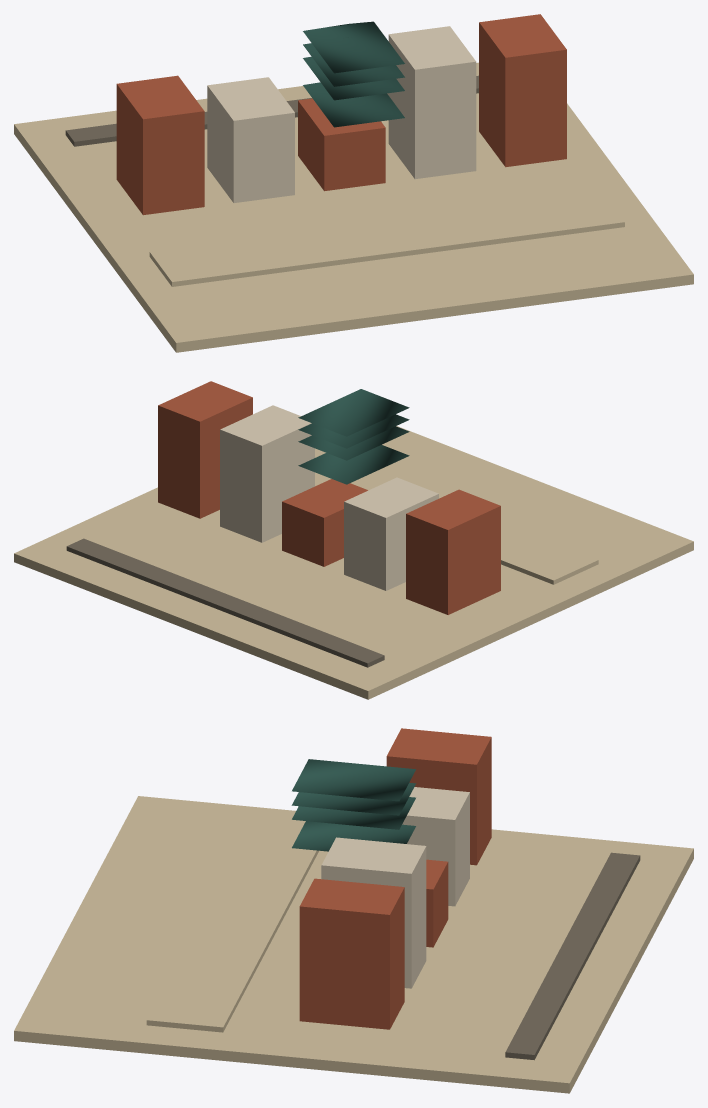
File: model-medium.glb
The picture shows the model from 3 angles, top to bottom: view 1: azimuth 30°, elevation 25°; view 2: azimuth 150°, elevation 25°; view 3: azimuth 270°, elevation 25°; orthographic projection. The views are drawn at different scales.
Parts seen in each view (by area): view 1: context_site_plinth, street_public_axis, street_facade_4, street_facade_3, street_facade_0, street_facade_1, street_facade_2, street_roof_3, street_roof_2, street_roof_1, street_roof_0, front_scale_strip; view 2: context_site_plinth, street_facade_0, street_facade_3, street_facade_4, street_facade_1, front_scale_strip, street_facade_2, street_public_axis, street_roof_3, street_roof_2, street_roof_0, street_roof_1; view 3: context_site_plinth, street_public_axis, street_facade_4, front_scale_strip, street_facade_0, street_facade_3, street_facade_1, street_roof_3, street_roof_2, street_facade_2, street_roof_0, street_roof_1.
Part boxes in pixels (left/top/right/bottom): context_site_plinth: left=14, top=62, right=693, bottom=352; street_public_axis: left=149, top=192, right=624, bottom=286; street_facade_4: left=479, top=14, right=566, bottom=167; street_facade_3: left=388, top=26, right=476, bottom=179; street_facade_0: left=116, top=75, right=204, bottom=215; street_facade_1: left=207, top=77, right=294, bottom=202; street_facade_2: left=298, top=98, right=385, bottom=191; street_roof_3: left=303, top=21, right=404, bottom=73; street_roof_2: left=303, top=82, right=404, bottom=127; street_roof_1: left=303, top=56, right=404, bottom=100; street_roof_0: left=303, top=37, right=404, bottom=86; front_scale_strip: left=65, top=75, right=478, bottom=146; context_site_plinth: left=14, top=426, right=693, bottom=699; street_facade_0: left=406, top=489, right=500, bottom=614; street_facade_3: left=220, top=405, right=314, bottom=542; street_facade_4: left=158, top=381, right=252, bottom=518; street_facade_1: left=344, top=477, right=438, bottom=590; front_scale_strip: left=66, top=538, right=384, bottom=667; street_facade_2: left=282, top=479, right=367, bottom=566; street_public_axis: left=315, top=450, right=598, bottom=584; street_roof_3: left=298, top=389, right=409, bottom=436; street_roof_2: left=298, top=444, right=409, bottom=484; street_roof_0: left=298, top=414, right=409, bottom=448; street_roof_1: left=298, top=426, right=409, bottom=460; context_site_plinth: left=14, top=796, right=693, bottom=1093; street_public_axis: left=146, top=814, right=318, bottom=1032; street_facade_4: left=299, top=878, right=404, bottom=1029; front_scale_strip: left=505, top=852, right=640, bottom=1060; street_facade_0: left=386, top=728, right=491, bottom=865; street_facade_3: left=321, top=837, right=426, bottom=988; street_facade_1: left=402, top=787, right=469, bottom=906; street_roof_3: left=292, top=759, right=415, bottom=801; street_roof_2: left=292, top=821, right=415, bottom=851; street_facade_2: left=426, top=859, right=448, bottom=947; street_roof_0: left=291, top=782, right=416, bottom=815; street_roof_1: left=292, top=797, right=415, bottom=829.
Bounding box in the file's own units: 9.55 × 2.89 × 9.55.
